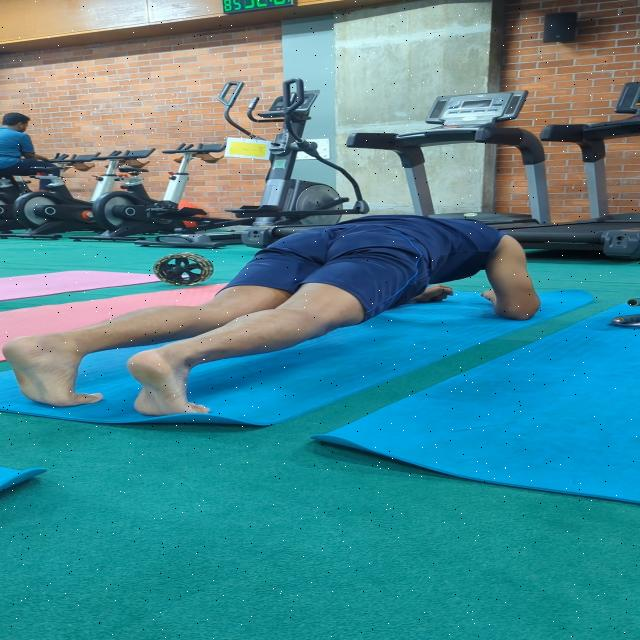Normal_Plunk: (0, 210, 561, 433)
